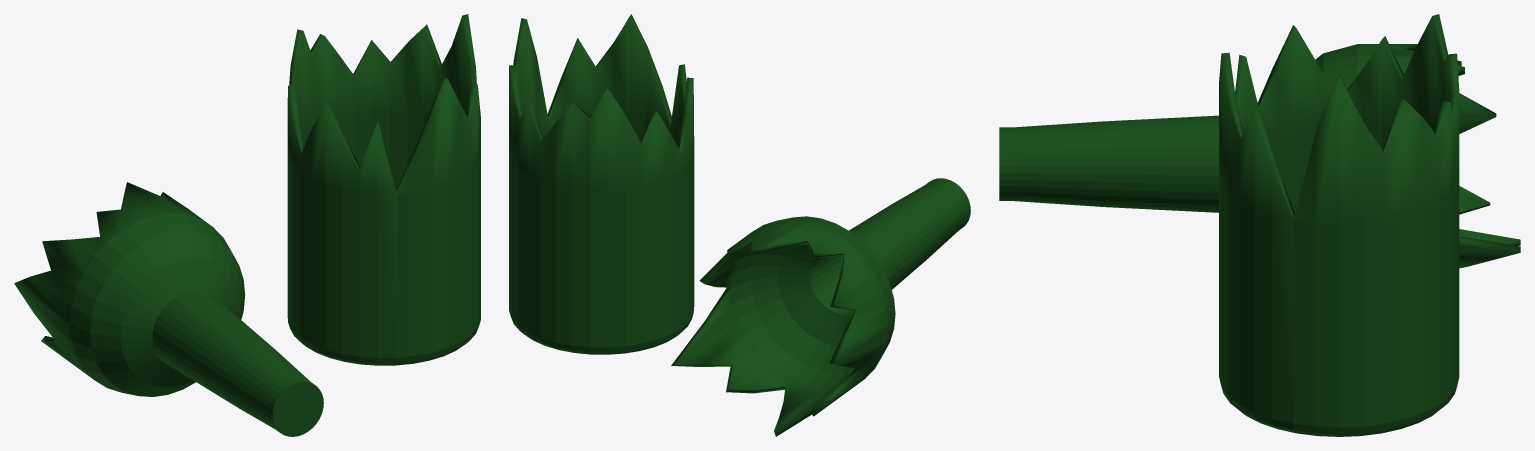
Rendered from Garrafa_Quebrada.fbx.
The picture shows the model from 3 angles, left to right: view 1: azimuth 30°, elevation 25°; view 2: azimuth 150°, elevation 25°; view 3: azimuth 270°, elevation 25°; orthographic projection. The views are drawn at different scales.
Visible parts, largest first — view 1: Cilindro, Cilindro.001; view 2: Cilindro, Cilindro.001; view 3: Cilindro, Cilindro.001.
Boxes of the visible parts, x1,y1,x2,y2 form: Cilindro: (287,14,480,365); Cilindro.001: (14,182,323,436); Cilindro: (509,14,694,354); Cilindro.001: (671,178,970,436); Cilindro: (1219,14,1459,436); Cilindro.001: (999,44,1520,268).
Bounding box in the file's own units: 466 × 351 × 434.
